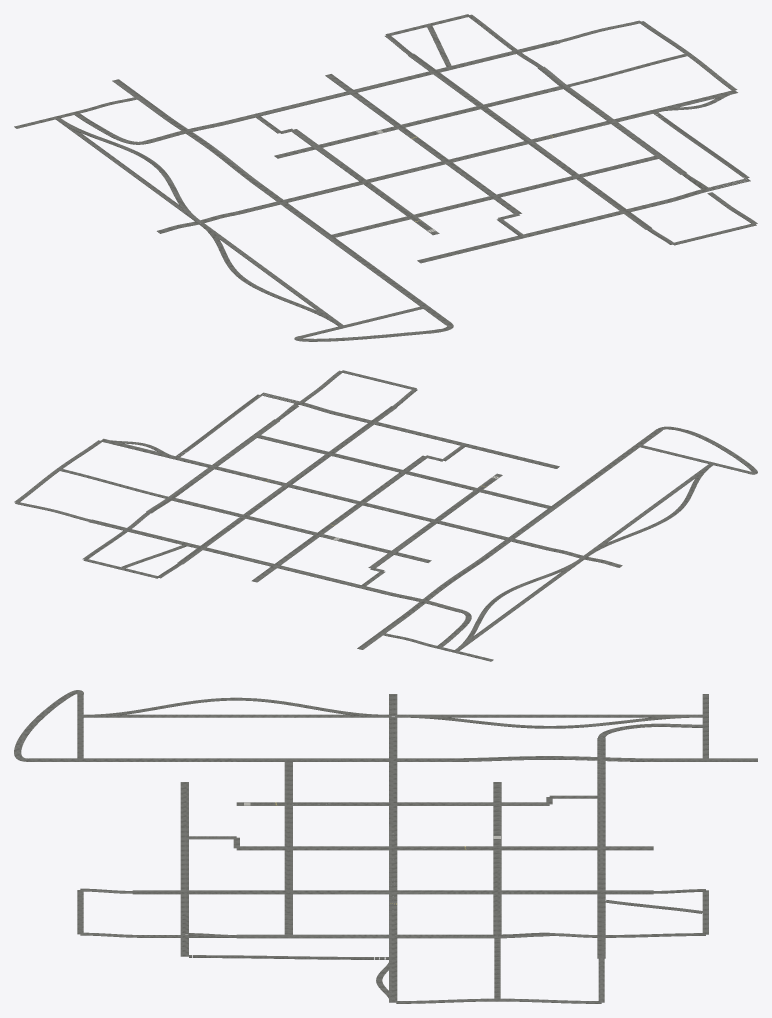
File: TodaRush_Roads_Philippine_Redesign.glb
The picture shows the model from 3 angles, top to bottom: view 1: azimuth 30°, elevation 25°; view 2: azimuth 150°, elevation 25°; view 3: azimuth 270°, elevation 25°; orthographic projection. The views are drawn at different scales.
Parts seen in each view (by area): view 1: Road_Nbr_V1_Curved, Road_Nbr_V2_Curved, Road_Nbr_V2, Road_Nbr_V1, Road_NE_Curve1; view 2: Road_Nbr_V1_Curved, Road_Nbr_V2_Curved, Road_Nbr_V2, Road_Nbr_V1; view 3: Road_Nbr_V1_Curved, Road_Nbr_V2_Curved, Road_Nbr_V1, Road_Nbr_V2, Road_W_V1, Road_NW_V2, Road_NE_Curve1.
Boxes of the visible parts, x1,y1,x2,y2 form: Road_Nbr_V1_Curved: (199, 223, 343, 326); Road_Nbr_V2_Curved: (56, 118, 199, 221); Road_Nbr_V2: (57, 120, 193, 220); Road_Nbr_V1: (208, 226, 338, 321); Road_NE_Curve1: (294, 323, 453, 341); Road_Nbr_V1_Curved: (584, 464, 712, 556); Road_Nbr_V2_Curved: (455, 558, 583, 650); Road_Nbr_V2: (460, 559, 584, 650); Road_Nbr_V1: (588, 466, 705, 552); Road_Nbr_V1_Curved: (83, 697, 388, 717); Road_Nbr_V2_Curved: (397, 714, 702, 728); Road_Nbr_V1: (84, 714, 388, 717); Road_Nbr_V2: (407, 714, 692, 717); Road_W_V1: (396, 998, 601, 1003); Road_NW_V2: (189, 955, 388, 959); Road_NE_Curve1: (14, 690, 83, 761).
Size of the model in its own units: 534 by 2.1 by 535.
Materials: 13 (4 with a texture image).
